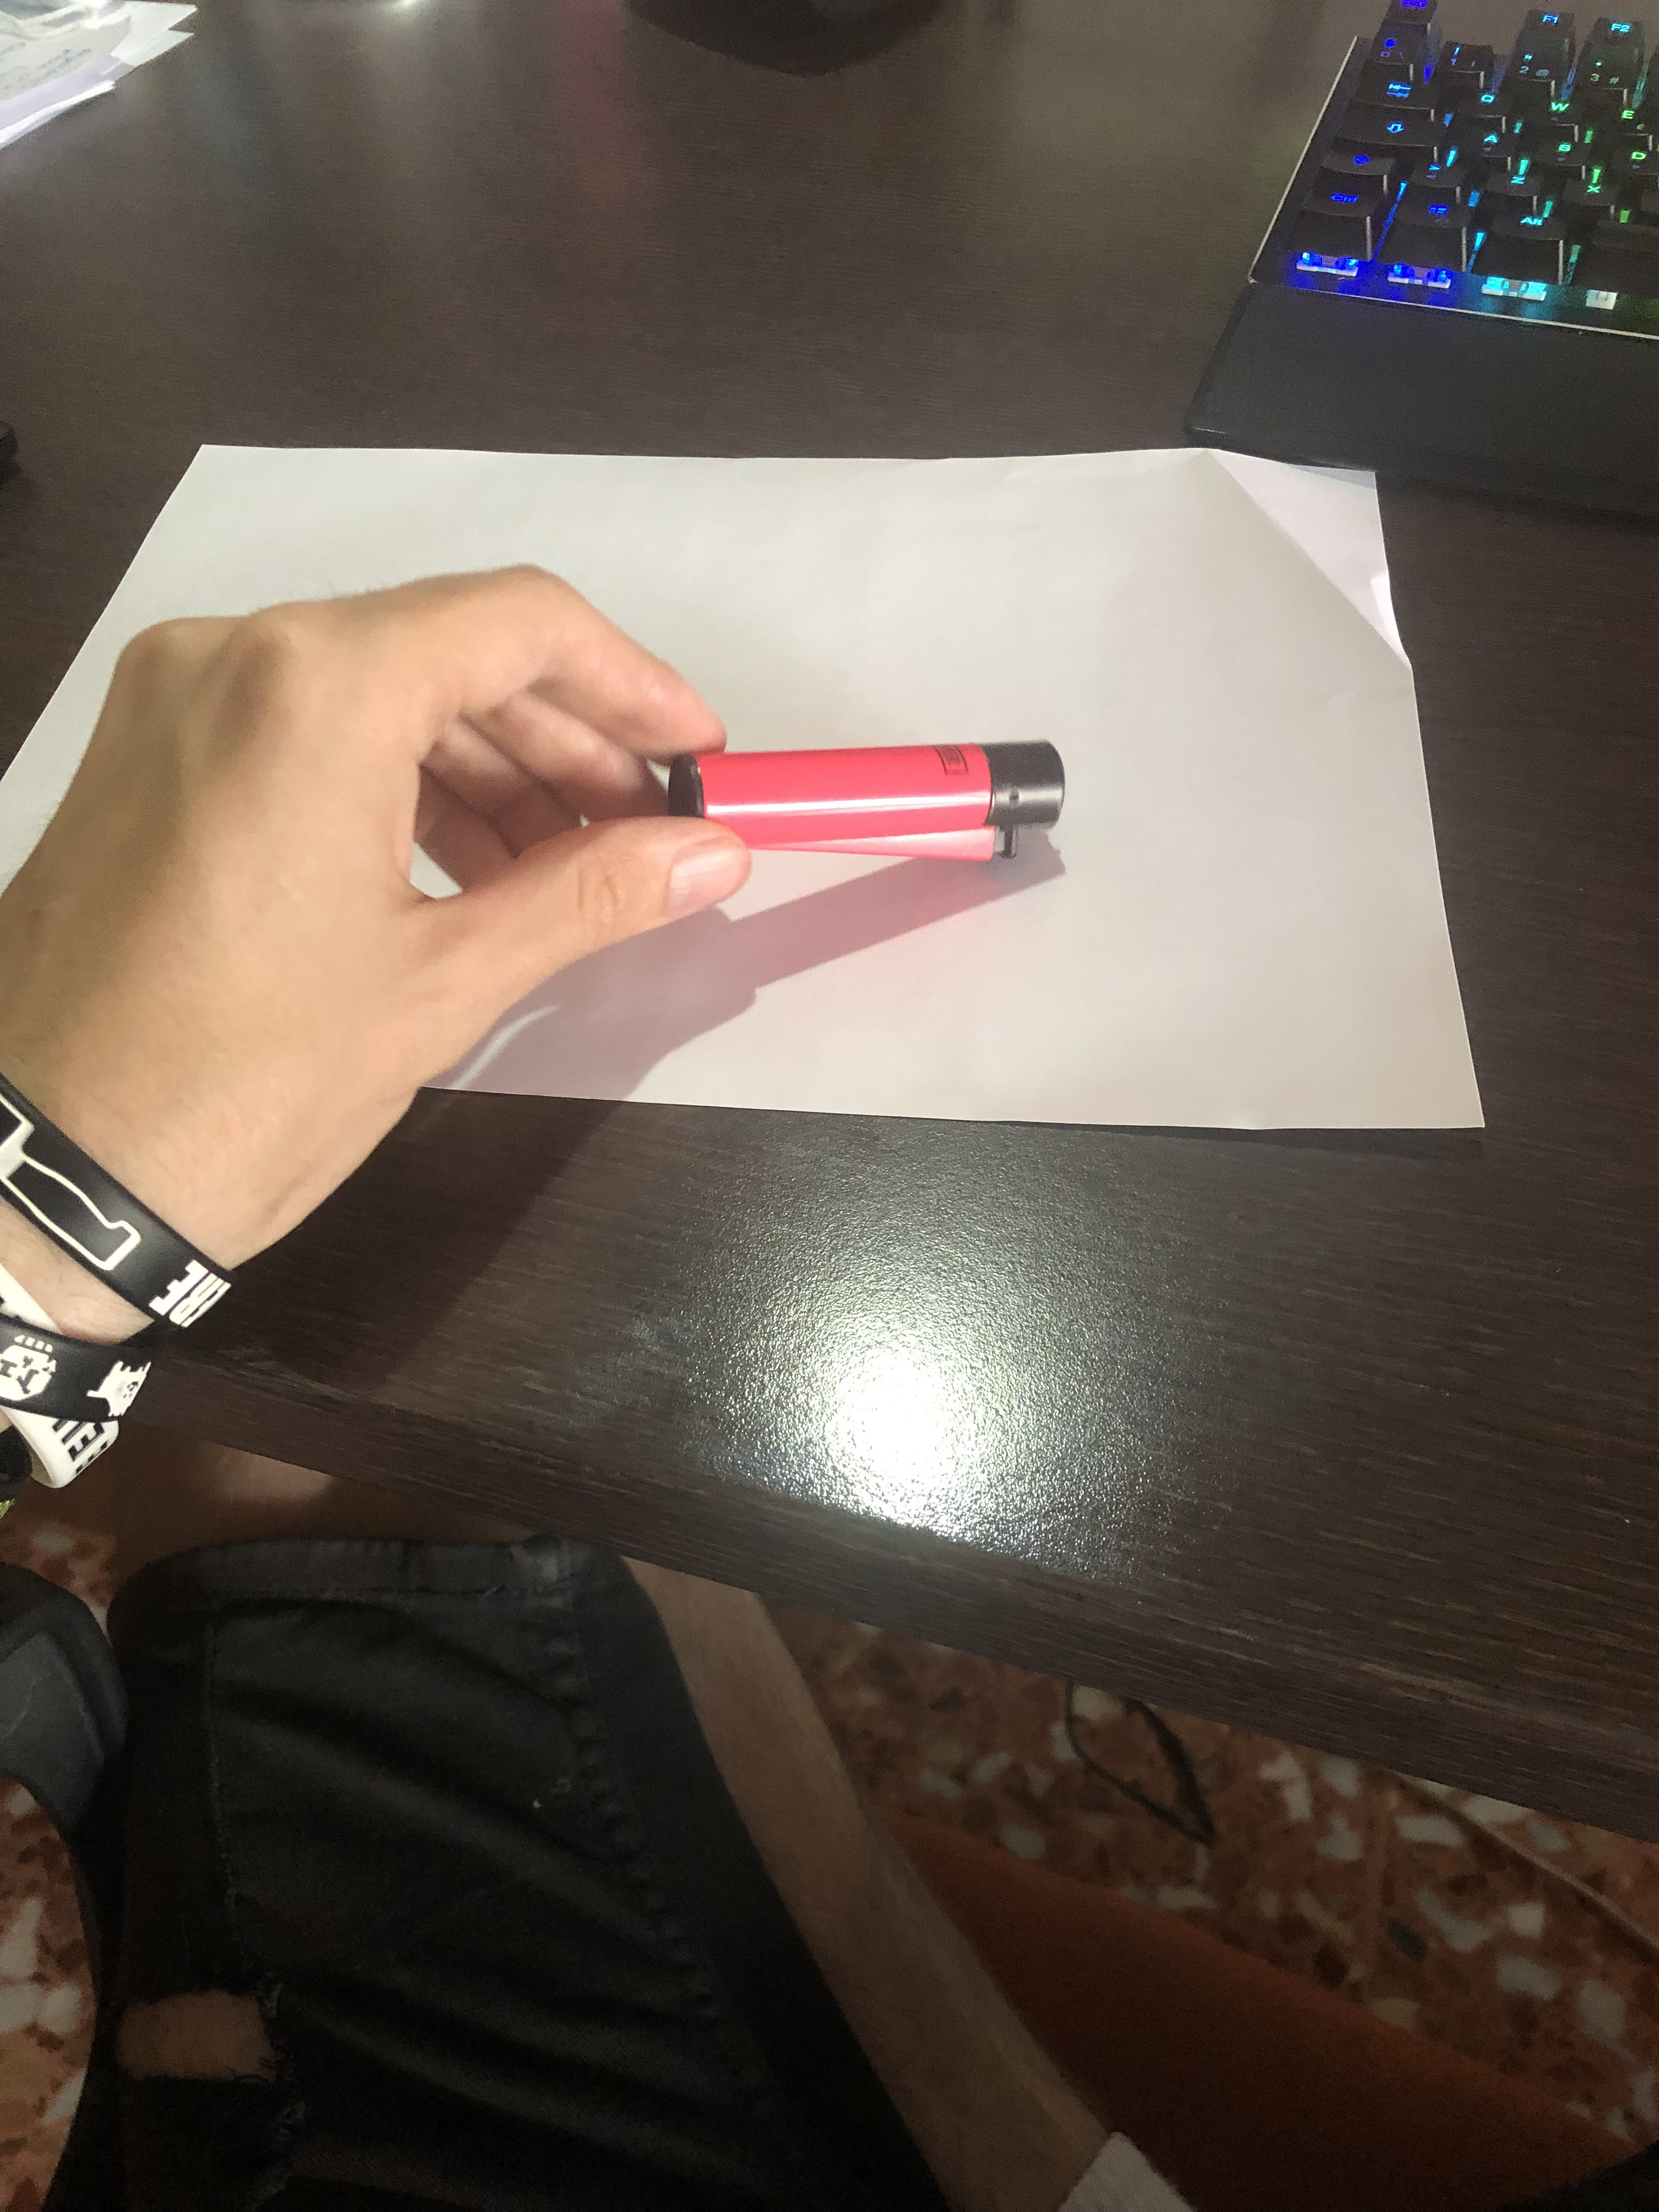Mechero: (653, 726, 1103, 874)
